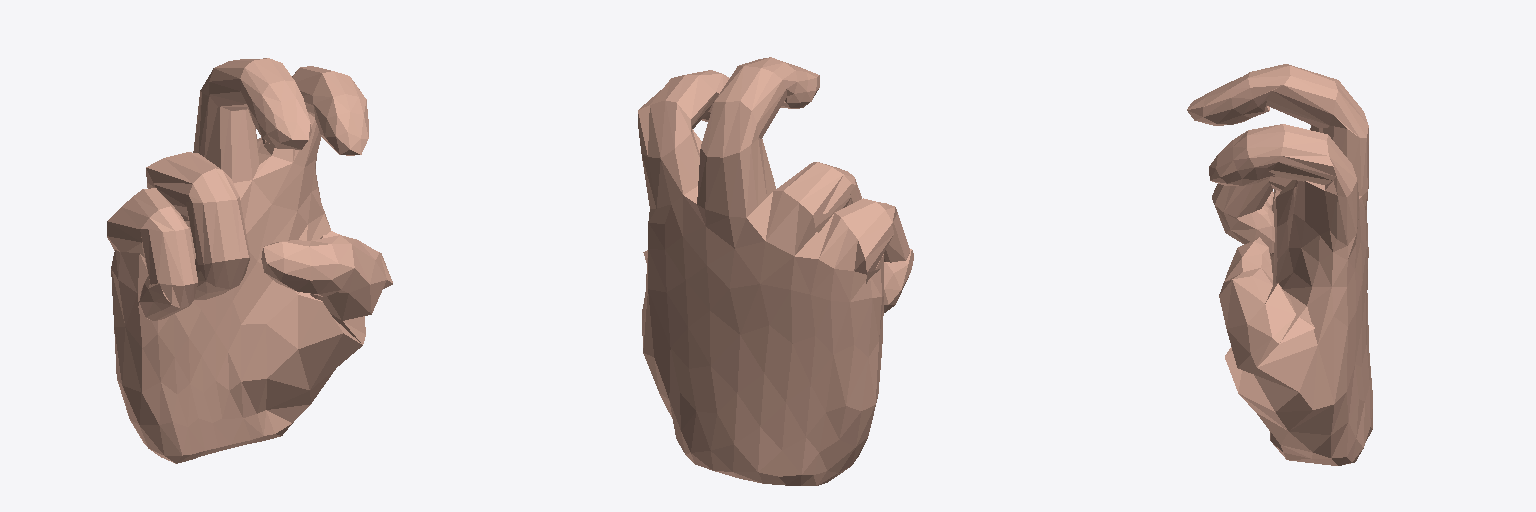
Rendered from FLEXIONADO2.obj.
3 renders of one model, left to right at view 1: azimuth 30°, elevation 25°; view 2: azimuth 150°, elevation 25°; view 3: azimuth 270°, elevation 25°, orthographic.
Visible parts, largest first — view 1: mao_dir:mao_dir; view 2: mao_dir:mao_dir; view 3: mao_dir:mao_dir.
Part boxes in pixels (bbox=[...]): mao_dir:mao_dir: bbox=[107, 58, 392, 463]; mao_dir:mao_dir: bbox=[638, 57, 913, 485]; mao_dir:mao_dir: bbox=[1187, 64, 1372, 465].
Bounding box in the file's own units: 135 × 196 × 86.45.